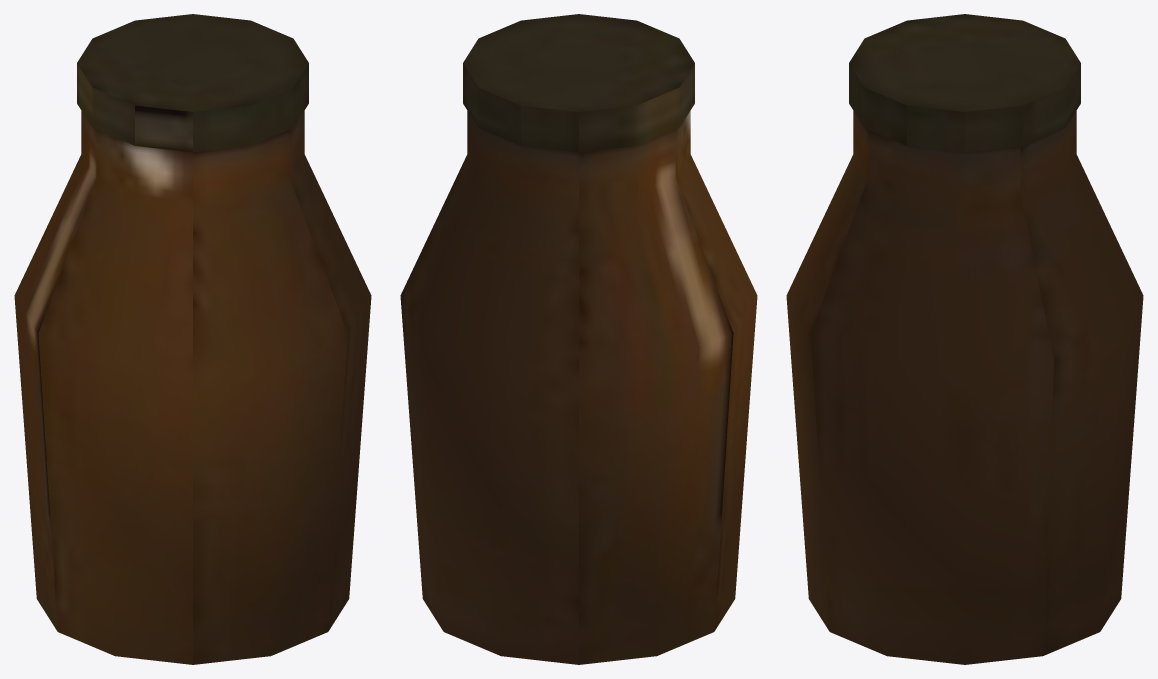
File: cantina_prop_jar_A_large.glb
3 views of the same model, side by side, from view 1: azimuth 30°, elevation 25°; view 2: azimuth 150°, elevation 25°; view 3: azimuth 270°, elevation 25° (orthographic).
Parts seen in each view (by area): view 1: cantina_prop_jar_A_large; view 2: cantina_prop_jar_A_large; view 3: cantina_prop_jar_A_large.
Boxes of the visible parts, box(x1,y1,x2,y2) form: cantina_prop_jar_A_large: box(14, 14, 371, 664); cantina_prop_jar_A_large: box(400, 14, 757, 664); cantina_prop_jar_A_large: box(786, 14, 1143, 664).
Size of the model in its own units: 0.16 by 0.265 by 0.16.
Materials: 1 (1 with a texture image).
